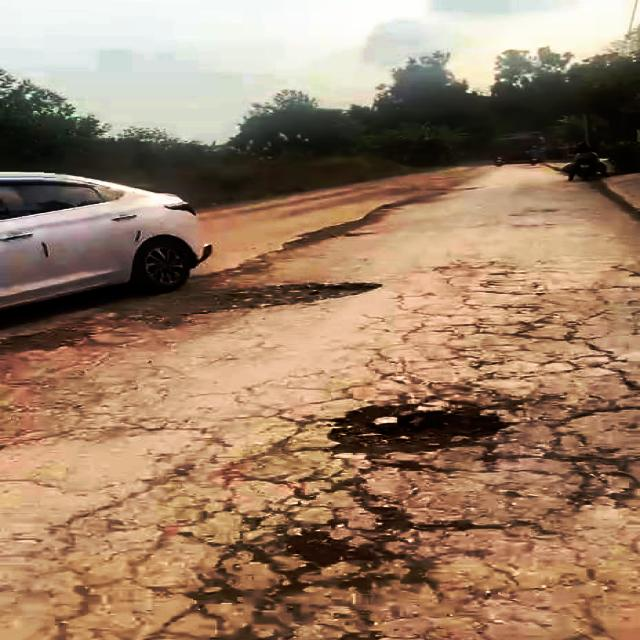pothole: (256, 505, 438, 586), (324, 399, 515, 458), (193, 278, 404, 309), (0, 318, 103, 357)
